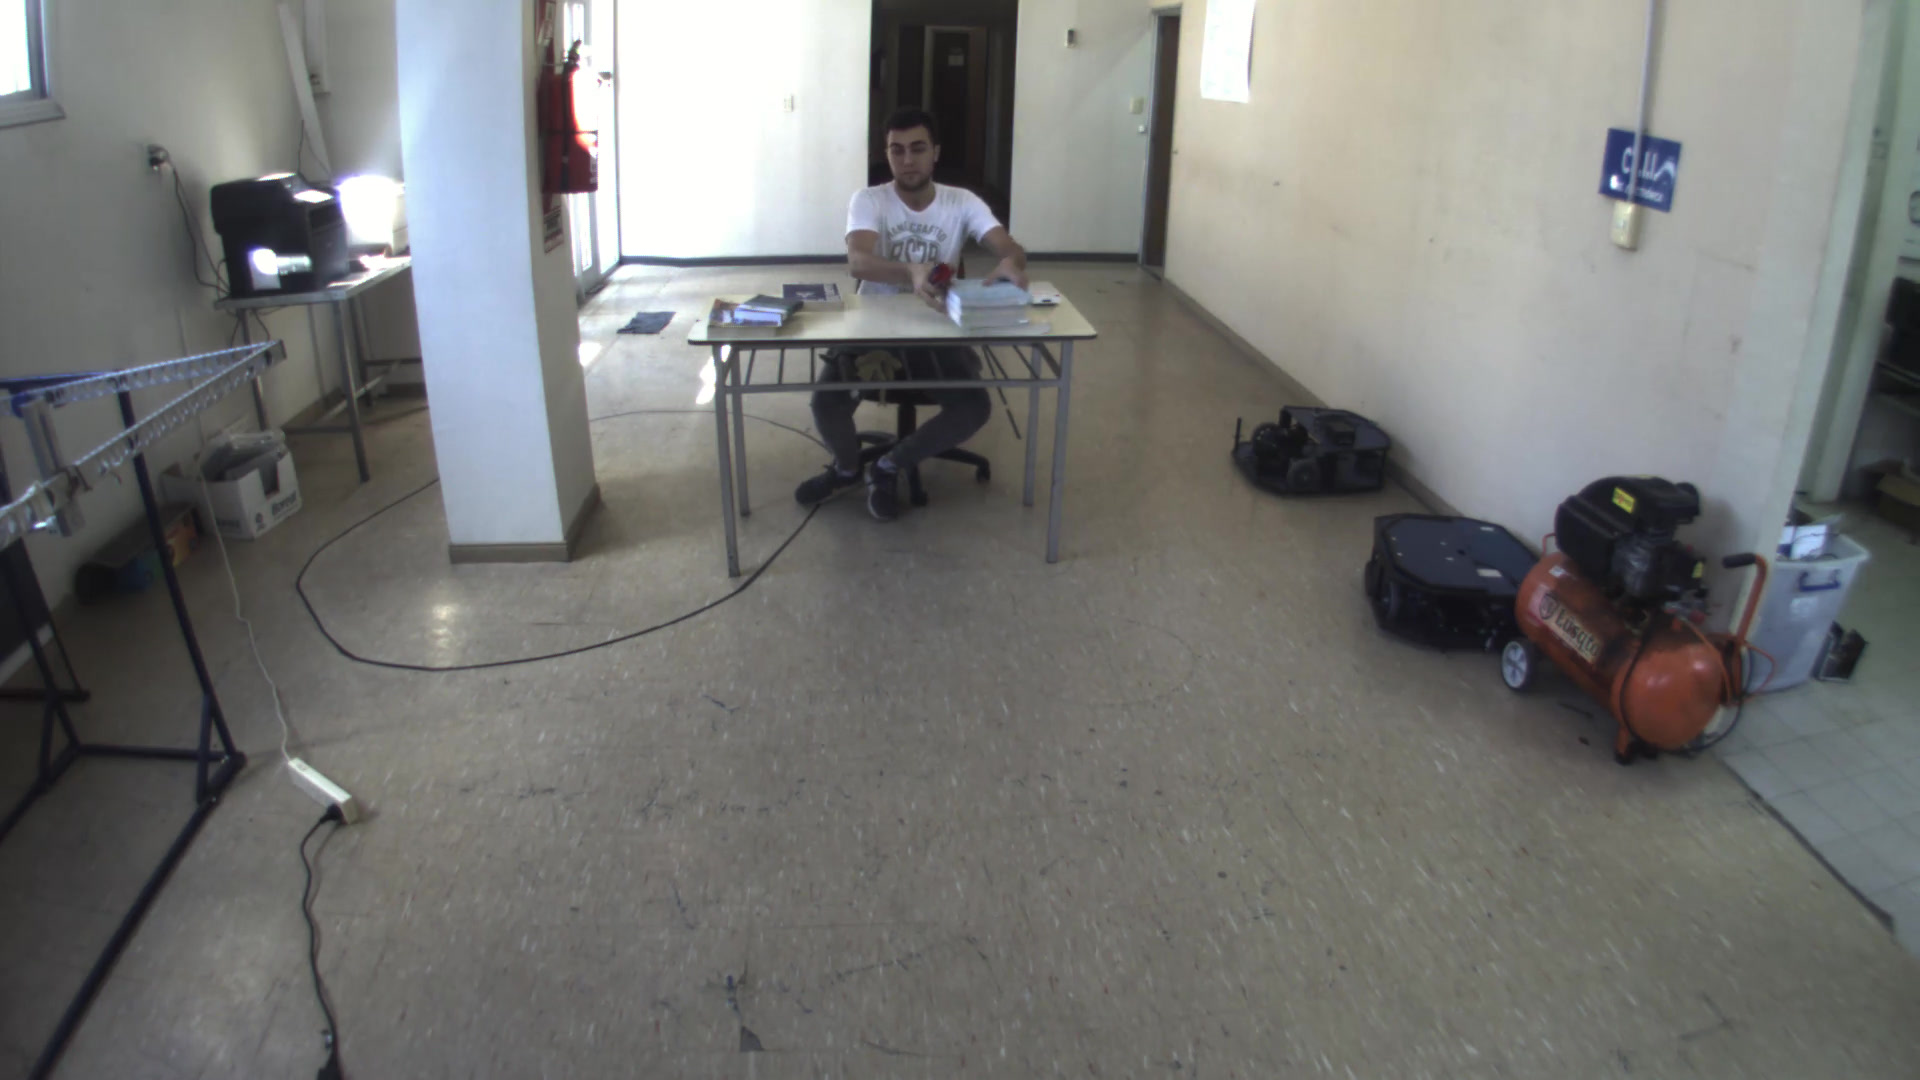hand: (906, 258, 957, 313), (982, 258, 1030, 295)
